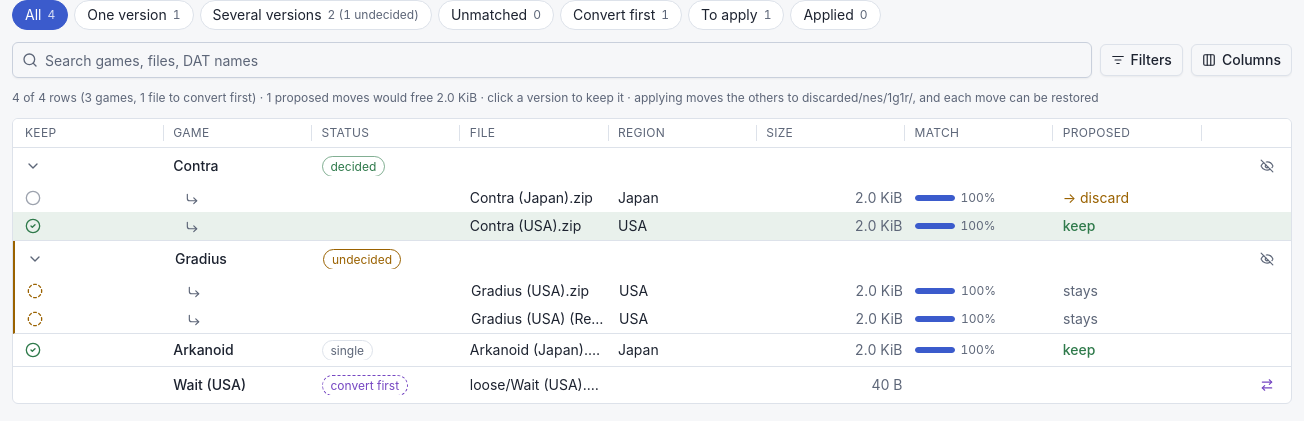
Test case: a file waiting for its conversion is its own row, linking to the Conversion tab
expect the text "1 file to convert first" is shown: met, box x1=77 y1=90 x2=256 y2=105
expect the element with test id "quick-views" shows "1": met, box x1=173 y1=7 x2=181 y2=22
Click the radio button labelled "Convert first 1".
click(621, 15)  # box x1=560 y1=0 x2=682 y2=30
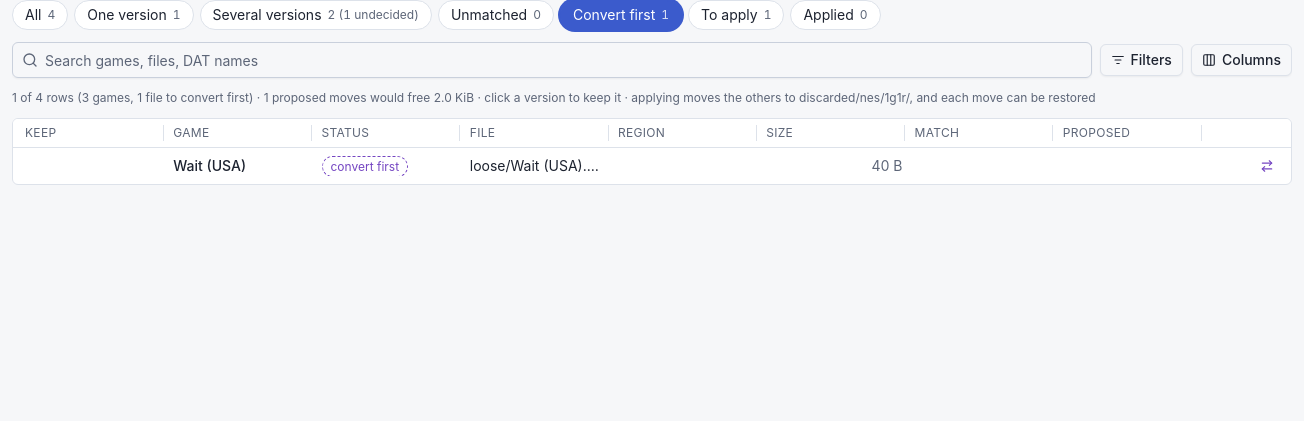
expect the text "Wait (USA)" is shown: met, box x1=173 y1=156 x2=246 y2=176
expect the button "Contra" is gone: met
Click the radio button labelled "One version 1".
click(134, 15)  # box x1=74 y1=0 x2=194 y2=30
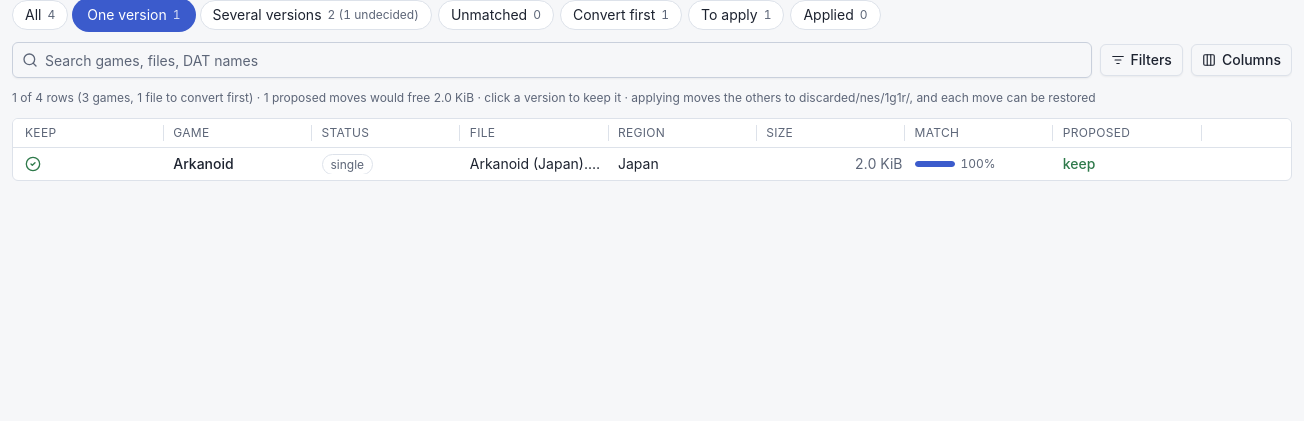
expect the text "Wait (USA)" is gone: met
